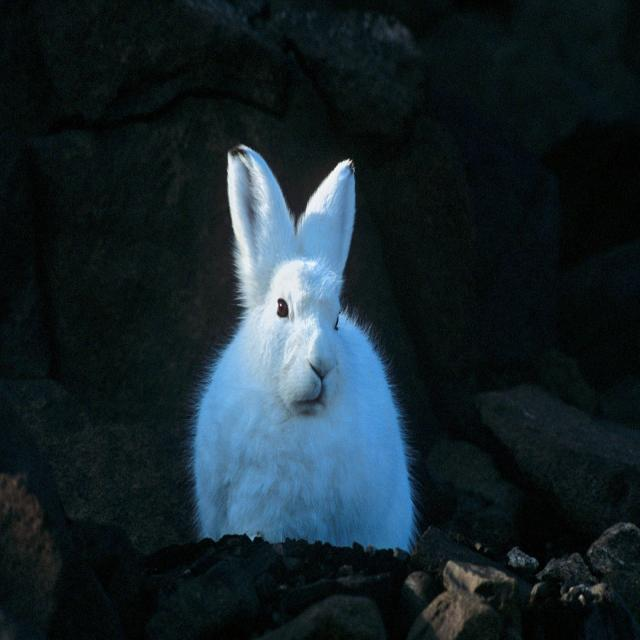Hare: (179, 126, 423, 570)
